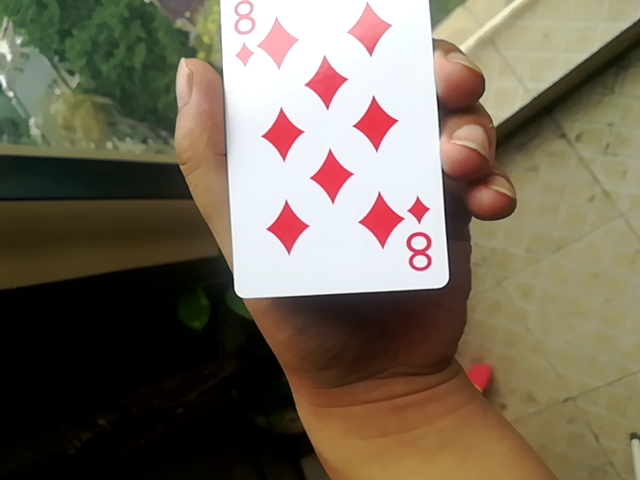fk 8: (218, 2, 445, 301)
